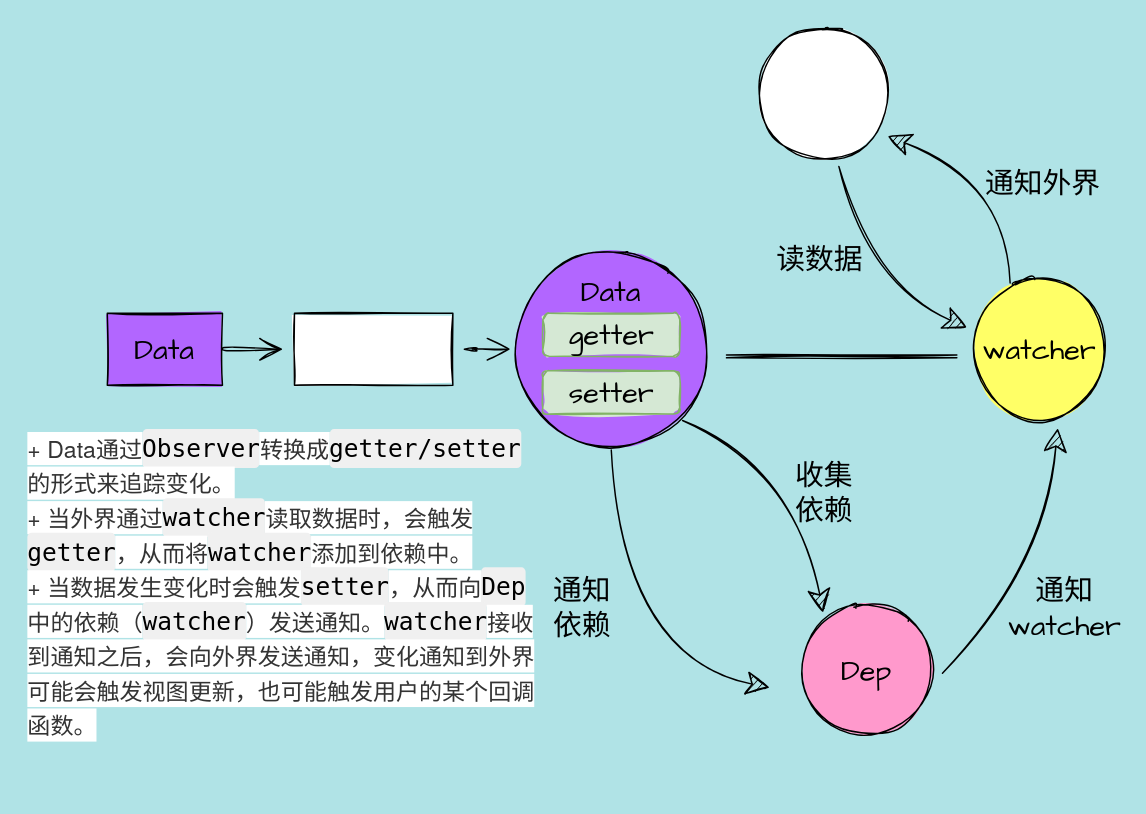
The diagram is 1146 pixels wide and 814 high, and some of its shapes have lost their labels. Each missing label, with the centre of its shape:
Observer: pixel 373 348
外界: pixel 823 93
